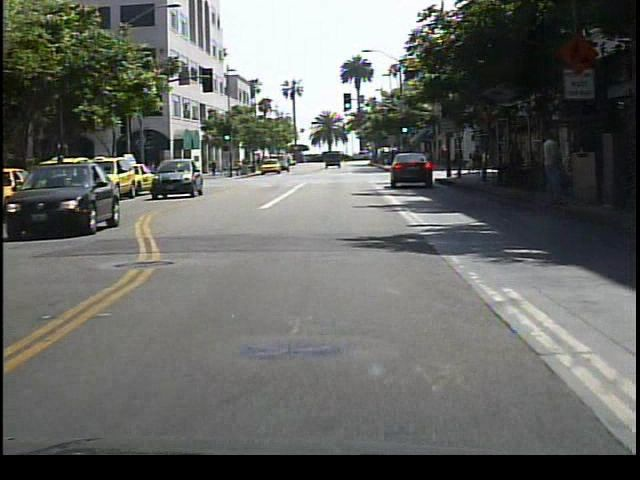person: (537, 127, 568, 210), (48, 148, 71, 210)
